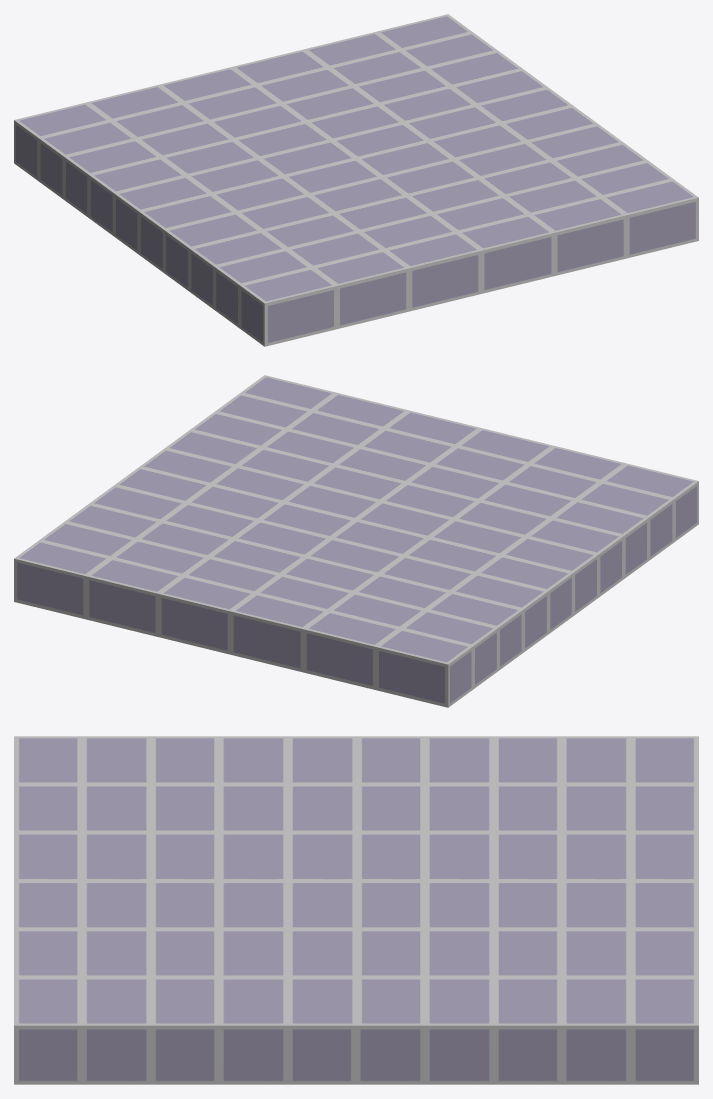
Rendered from PavementPavement.fbx.
3 views of the same model, one above another, from view 1: azimuth 30°, elevation 25°; view 2: azimuth 150°, elevation 25°; view 3: azimuth 270°, elevation 25° (orthographic). The views are drawn at different scales.
Visible parts, largest first — view 1: Pavement; view 2: Pavement; view 3: Pavement.
Part boxes in pixels (x1,y1,x2,y2): Pavement: (14, 14, 698, 346); Pavement: (14, 375, 698, 707); Pavement: (14, 736, 698, 1084).
Bounding box in the file's own units: 2 × 2 × 0.1904.
1 material, 1 textured.
